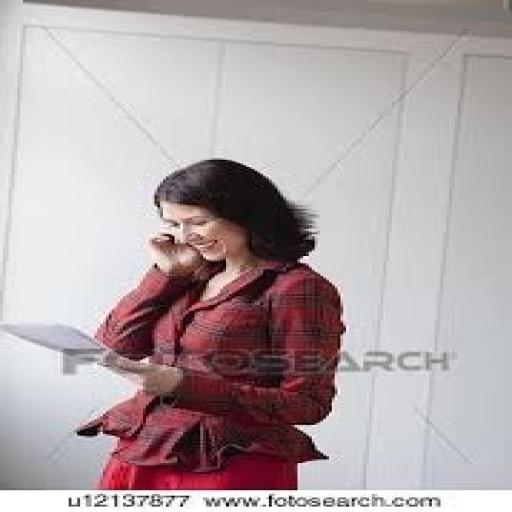calling: (72, 156, 346, 490)
